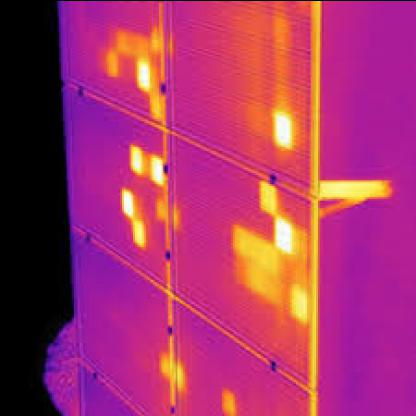Defects: (146, 146, 174, 178), (129, 140, 150, 172), (276, 216, 298, 244), (286, 284, 306, 314), (274, 113, 294, 142), (135, 61, 153, 89), (127, 218, 150, 236), (120, 194, 140, 212)
